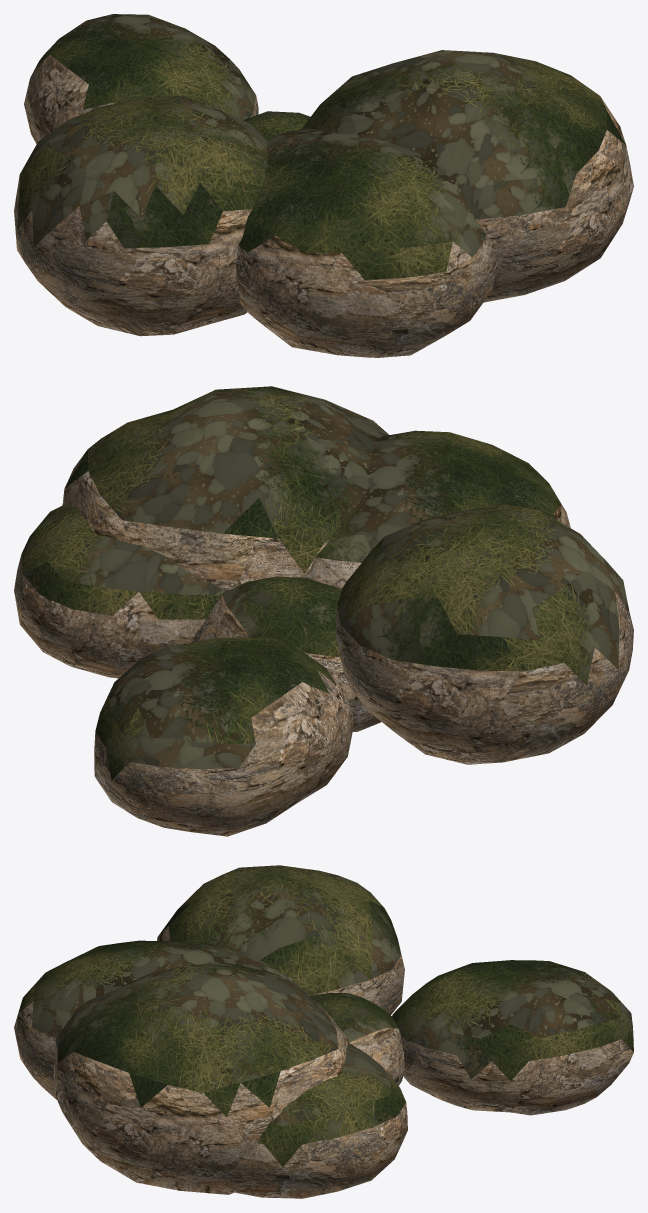
The model's file is lichen-rocks-v01.glb.
3 views of the same model, one above another, from view 1: azimuth 30°, elevation 25°; view 2: azimuth 150°, elevation 25°; view 3: azimuth 270°, elevation 25° (orthographic). The views are drawn at different scales.
Parts seen in each view (by area): view 1: lichen-rocks; view 2: lichen-rocks; view 3: lichen-rocks.
Part boxes in pixels (x1,y1,x2,y2): lichen-rocks: (14, 14, 633, 357); lichen-rocks: (14, 386, 633, 836); lichen-rocks: (14, 865, 633, 1198).
Size of the model in its own units: 1.96 by 0.7108 by 2.19.
2 materials, 2 textured.
